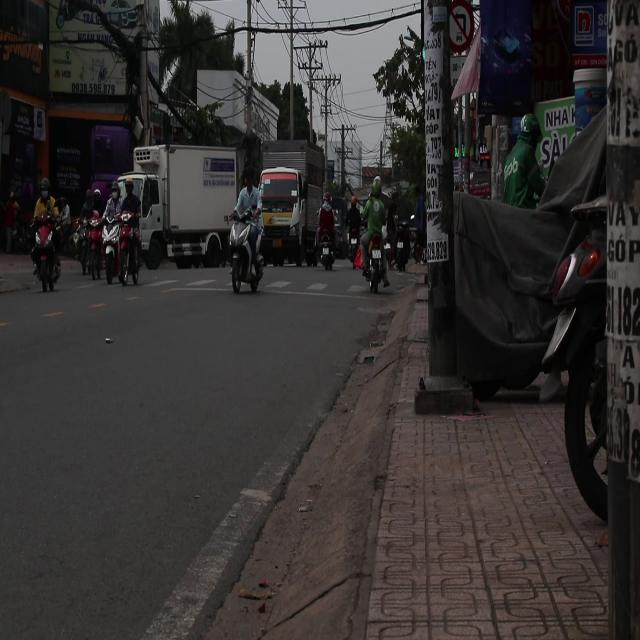motorbike: (226, 211, 266, 295), (94, 203, 126, 285), (115, 212, 142, 289), (32, 232, 64, 292), (360, 232, 392, 292), (331, 218, 363, 274), (81, 220, 104, 280)
truck: (130, 143, 236, 271), (259, 139, 325, 268)
